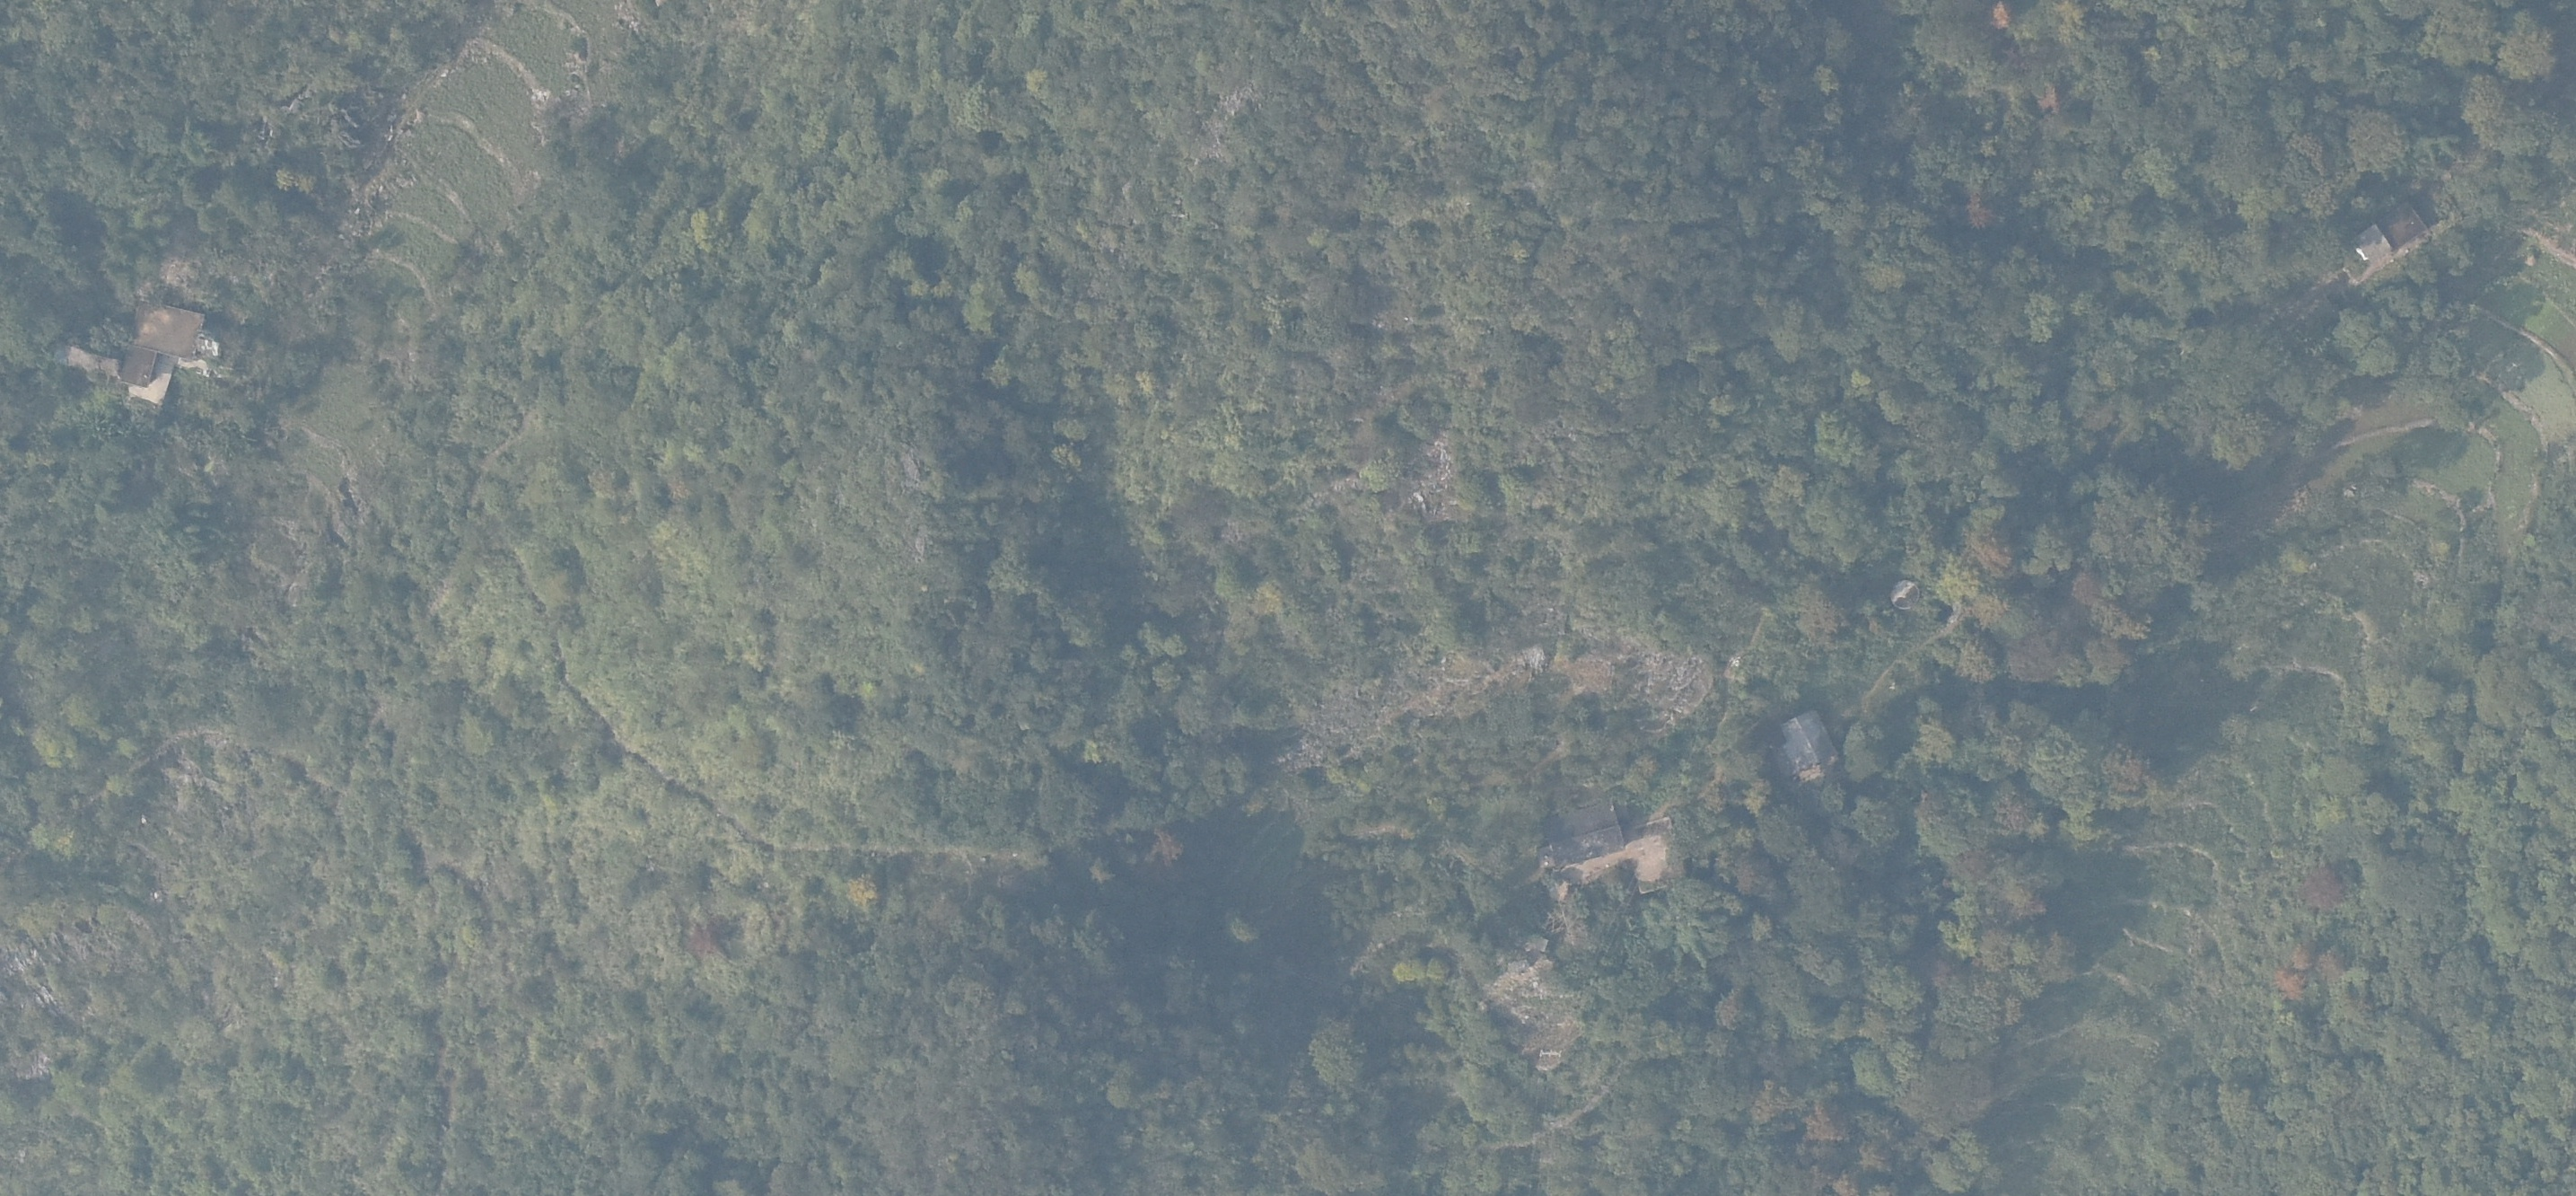building: (1528, 800, 1633, 869), (134, 298, 210, 360), (1779, 708, 1842, 776), (2334, 225, 2390, 288), (2378, 198, 2430, 252), (118, 345, 159, 390)
cable-tower: (1522, 1033, 1570, 1087)
well: (1879, 573, 1926, 618)
